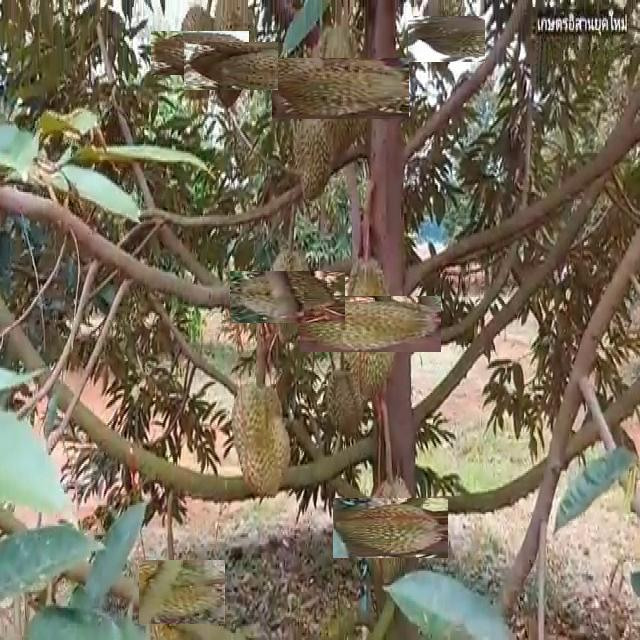durian: (291, 39, 390, 139), (321, 274, 419, 374), (224, 377, 294, 496), (346, 484, 434, 572), (246, 255, 330, 338), (144, 555, 220, 630), (164, 18, 236, 89), (195, 31, 266, 102), (290, 101, 334, 204), (319, 360, 365, 448), (416, 8, 478, 70), (210, 2, 254, 84)
